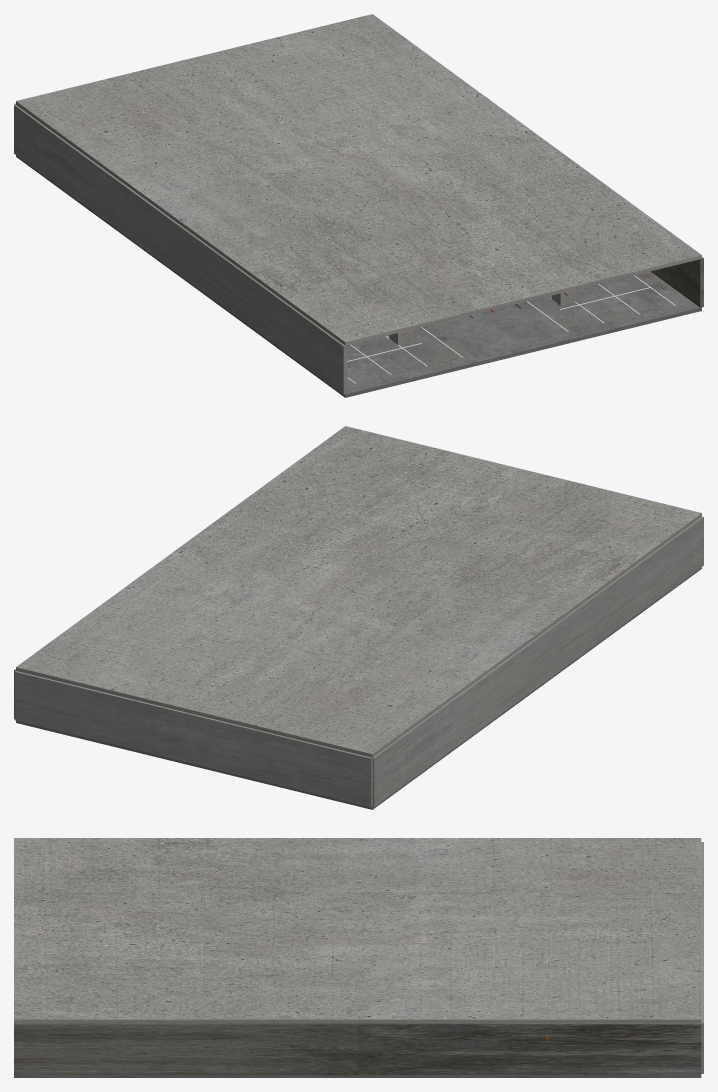
Rendered from 07_flooded_leaking_floor.glb.
3 views of the same model, one above another, from view 1: azimuth 30°, elevation 25°; view 2: azimuth 150°, elevation 25°; view 3: azimuth 270°, elevation 25° (orthographic). The views are drawn at different scales.
Parts seen in each view (by area): view 1: Concrete ceiling, Concrete floor, Left retaining wall, Right retaining wall; view 2: Concrete ceiling, Rear elevator wall, Left retaining wall, Concrete floor; view 3: Concrete ceiling, Right retaining wall, Concrete floor, Rear elevator wall.
Part boxes in pixels (<box>): Concrete ceiling: <box>16,14,701,345</box>; Concrete floor: <box>16,155,701,397</box>; Left retaining wall: <box>14,104,347,394</box>; Right retaining wall: <box>651,257,703,307</box>; Concrete ceiling: <box>16,426,701,757</box>; Rear elevator wall: <box>14,671,372,807</box>; Left retaining wall: <box>372,516,703,806</box>; Concrete floor: <box>16,567,701,809</box>; Concrete ceiling: <box>14,838,701,1023</box>; Right retaining wall: <box>14,1023,701,1074</box>; Concrete floor: <box>14,1075,701,1077</box>; Rear elevator wall: <box>701,842,703,1073</box>.
Size of the model in its own units: 25.58 by 3.73 by 40.15.
15 materials, 4 textured.
